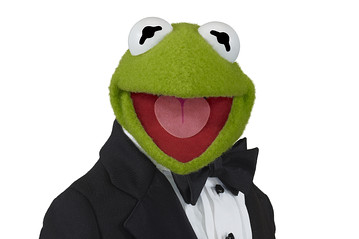kermit: (105, 15, 260, 176)
